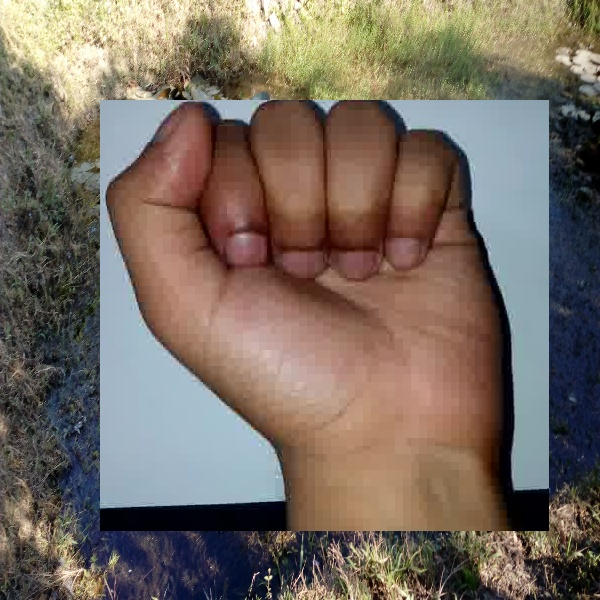A: (100, 100, 549, 531)
